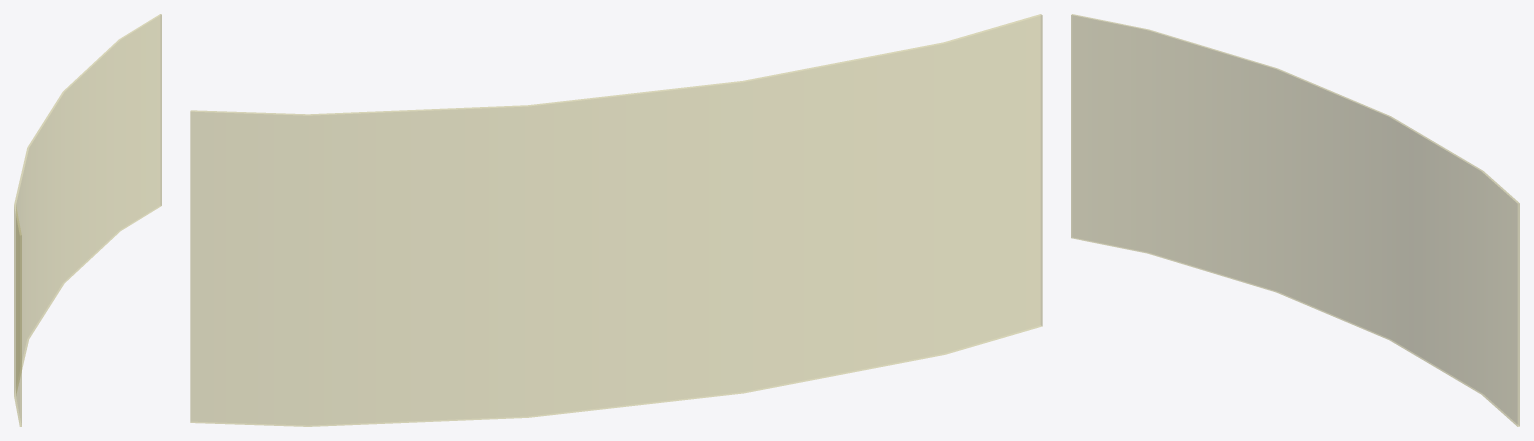
The model's file is Glass.001.fbx.
The picture shows the model from 3 angles, left to right: view 1: azimuth 30°, elevation 25°; view 2: azimuth 150°, elevation 25°; view 3: azimuth 270°, elevation 25°; orthographic projection. The views are drawn at different scales.
Visible parts, largest first — view 1: mod_Corner.window.002; view 2: mod_Corner.window.002; view 3: mod_Corner.window.002.
Boxes of the visible parts, <box> form: mod_Corner.window.002: <box>14,14,161,426</box>; mod_Corner.window.002: <box>190,14,1042,426</box>; mod_Corner.window.002: <box>1071,14,1519,426</box>.
Bounding box in the file's own units: 934 × 513 × 934.
